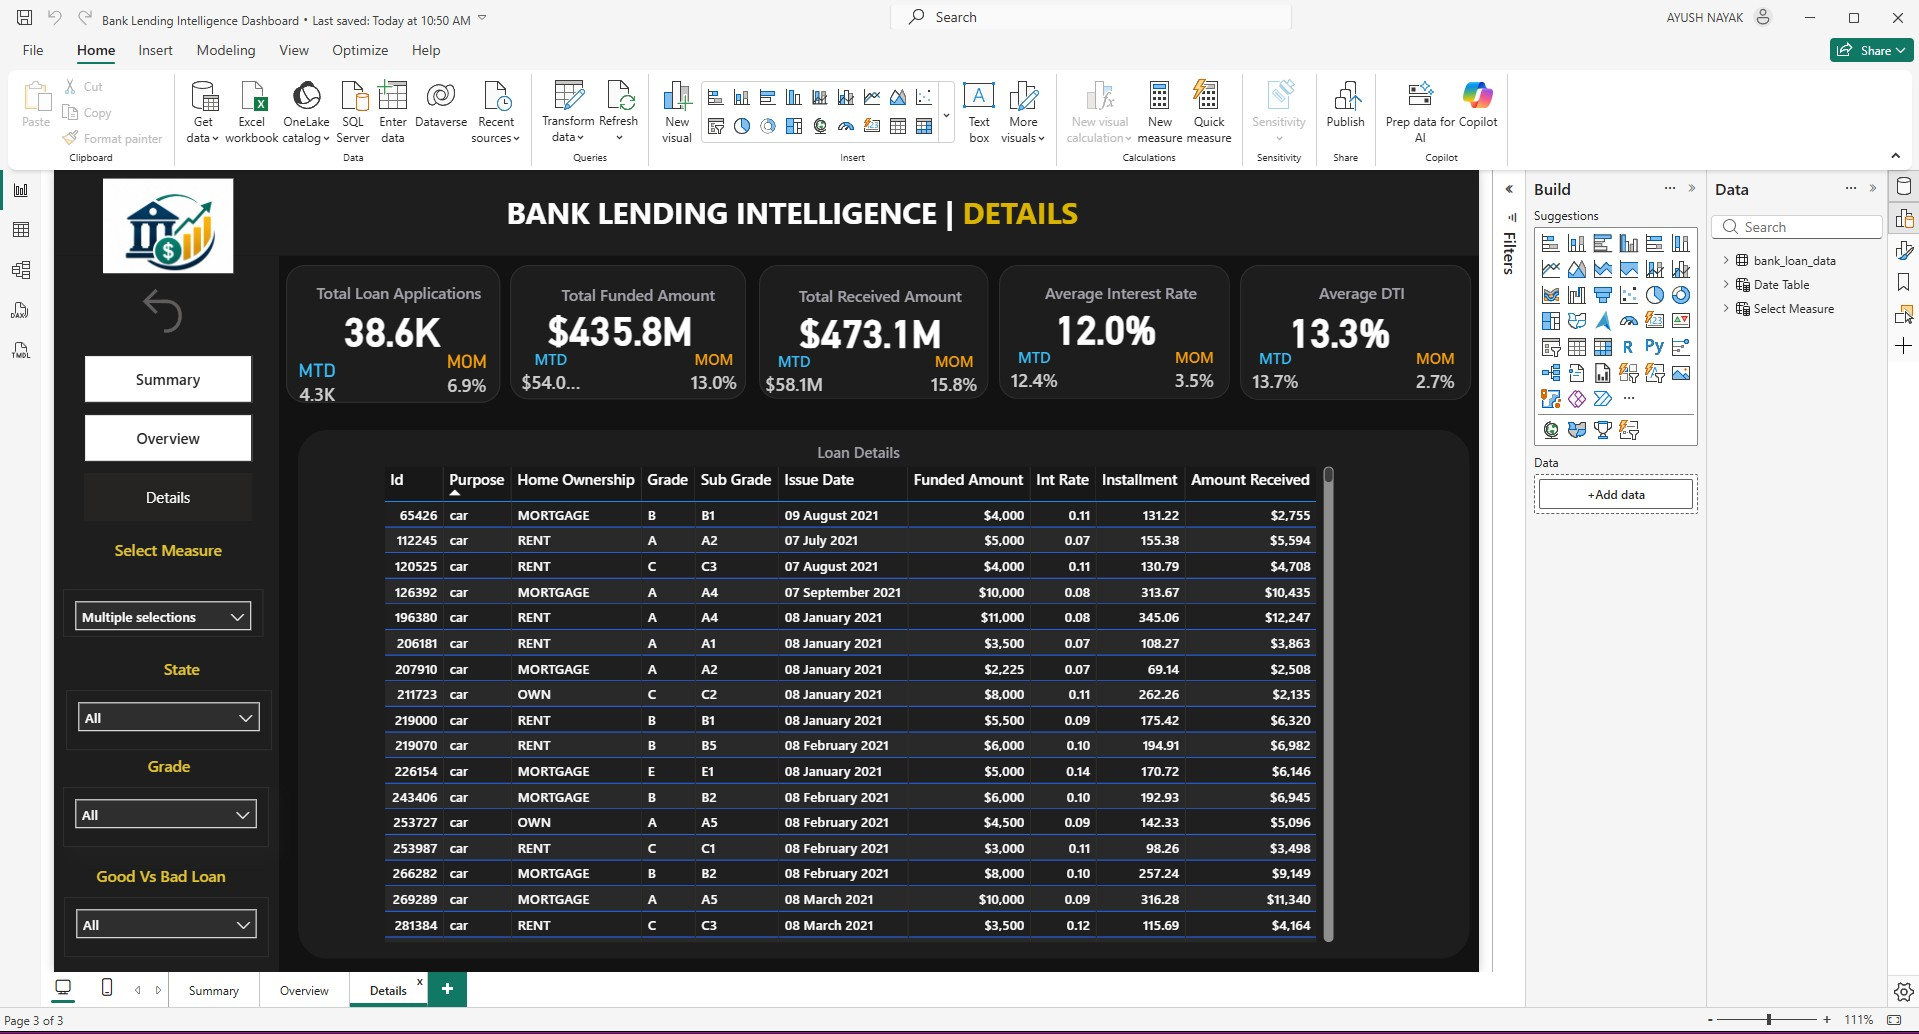

What the dashboard file says about the page in this screenshot:
{"tool":"powerbi","page":{"name":"Details","canvas":[1280,720],"ordinal":2},"visuals":[{"type":"shape","box":[0,0,1280,77.2],"z":0},{"type":"shape","box":[208.2,85.7,192.5,123.7],"z":0,"group":"g1"},{"type":"shape","box":[1064.3,85.7,207.6,121.3],"z":0,"group":"g6"},{"type":"group","id":"g1","title":"Group 1","box":[206.6,85.7,193.5,133],"z":1000},{"type":"shape","box":[632.9,85.7,206.2,120.3],"z":1000,"group":"g2"},{"type":"card","fields":{"Values":["bank_loan_data.Total Loan Applications"]},"box":[217.7,119.8,172.3,46.4],"z":1000,"group":"g1"},{"type":"shape","box":[0,77.6,202.2,642.9],"z":2000},{"type":"shape","box":[409.2,85.7,212.1,120.8],"z":2000,"group":"g5"},{"type":"textbox","box":[227.2,96.6,164.8,47.8],"z":2000,"group":"g1"},{"type":"group","id":"g2","title":"Group 2","box":[632.9,85.7,206.6,123],"z":3000},{"type":"card","title":"MTD","fields":{"Values":["bank_loan_data.MTD Loan Applications"]},"box":[206.6,170.2,59.5,48.4],"z":3000,"group":"g1"},{"type":"shape","box":[848.6,85.7,207.4,120.3],"z":4000,"group":"g3"},{"type":"card","title":"MOM","fields":{"Values":["bank_loan_data.MOM Loan Applications"]},"box":[341.7,161.7,59,47.8],"z":4000,"group":"g1"},{"type":"shape","box":[219.3,233.7,1051.8,474.7],"z":4000},{"type":"group","id":"g3","title":"Group 3","box":[848.6,85.7,206.6,119.9],"z":5000},{"type":"textbox","box":[401.1,14.1,627.9,48.4],"z":6000},{"type":"card","fields":{"Values":["bank_loan_data.Avg DTI"]},"box":[1069.8,120.5,167.9,46.4],"z":6000,"group":"g6"},{"type":"group","id":"g4","title":"Group 4","box":[1064.3,85.7,207.6,120.9],"z":7000},{"type":"card","fields":{"Values":["bank_loan_data.Total Amount Received"]},"box":[645,123.5,176.9,42.2],"z":7000,"group":"g2"},{"type":"group","id":"g5","title":"Group 6","box":[409.2,85.7,214.7,120.9],"z":8000},{"type":"card","fields":{"Values":["bank_loan_data.Total Funded Amount"]},"box":[423.9,119.9,168.8,44.9],"z":8000,"group":"g5"},{"type":"card","fields":{"Values":["bank_loan_data.Average Interest Rate"]},"box":[859.4,119,169.5,45.1],"z":9000,"group":"g3"},{"type":"textbox","box":[768.8,268.8,148.8,27.5],"z":9000},{"type":"slicer","fields":{"Values":["bank_loan_data.address_state"]},"box":[10.6,466.6,184.5,54.1],"z":10000},{"type":"textbox","box":[1084.9,96.3,177.7,46.8],"z":11000,"group":"g6"},{"type":"textbox","box":[22.3,433.7,184.5,32.9],"z":11000},{"type":"textbox","box":[653.6,99.2,176.4,46.6],"z":12000,"group":"g2"},{"type":"slicer","fields":{"Values":["bank_loan_data.grade"]},"box":[8.2,553.6,184.5,54.1],"z":12000},{"type":"textbox","box":[434.7,97.9,180,46.1],"z":13000,"group":"g5"},{"type":"textbox","box":[17.6,520.7,170.4,32.9],"z":13000},{"type":"textbox","box":[869.2,96.3,177.5,46.4],"z":14000,"group":"g3"},{"type":"textbox","box":[17.6,619.4,156.3,32.9],"z":14000},{"type":"slicer","fields":{"Values":["bank_loan_data.Good Vs Bad Loan"]},"box":[8.6,652.9,184.3,54.3],"z":15000},{"type":"card","title":"MTD","fields":{"Values":["bank_loan_data.MTD Avg DTI"]},"box":[1064.3,160.2,63.6,46.8],"z":16000,"group":"g6"},{"type":"slicer","fields":{"Values":["Select Measure.Select Measure"]},"box":[8.2,376.1,179.8,43.5],"z":16000},{"type":"card","title":"MTD","fields":{"Values":["bank_loan_data.MTD Total Amount Received"]},"box":[633.2,162.8,63.1,46.6],"z":17000,"group":"g2"},{"type":"textbox","box":[10.1,326.6,185.4,33.3],"z":17000},{"type":"card","title":"MTD","fields":{"Values":["bank_loan_data.MTD Funded Amount"]},"box":[413.9,160.8,64.4,46.1],"z":18000,"group":"g5"},{"type":"tableEx","title":"Loan Details","fields":{"Values":["bank_loan_data.id","bank_loan_data.purpose","bank_loan_data.home_ownership","bank_loan_data.grade","bank_loan_data.sub_grade","bank_loan_data.issue_date","bank_loan_data.Total Funded Amount","Sum(bank_loan_data.int_rate)","Sum(bank_loan_data.installment)","bank_loan_data.Total Amount Received"]},"box":[291.3,243.9,862.7,453.5],"z":18000},{"type":"card","title":"MTD","fields":{"Values":["bank_loan_data.MTD Avg Int Rate"]},"box":[848.6,159.6,63.5,46.4],"z":19000,"group":"g3"},{"type":"pageNavigator","box":[27.2,166.3,151.2,151.2],"z":19000},{"type":"actionButton","box":[71.6,100.8,62.5,51.4],"z":20000},{"type":"card","title":"MOM","fields":{"Values":["bank_loan_data.MOM Avg DTI"]},"box":[1208.3,160.2,63.6,46.8],"z":20000,"group":"g6"},{"type":"image","box":[44.3,3,116.9,95.7],"z":21000},{"type":"card","title":"MOM","fields":{"Values":["bank_loan_data.MOM Total Amount Received"]},"box":[776.1,162.8,63.1,46.6],"z":22000,"group":"g2"},{"type":"card","title":"MOM","fields":{"Values":["bank_loan_data.MOM Total Funded Amount"]},"box":[559.8,160.8,64.4,46.1],"z":23000,"group":"g5"},{"type":"card","title":"MOM","fields":{"Values":["bank_loan_data.MOM Avg Int Rate"]},"box":[992.5,159.6,63.5,46.4],"z":24000,"group":"g3"},{"type":"group","id":"g6","title":"Group 5","box":[1064.3,85.7,207.6,121.3],"z":43004,"group":"g4"}]}

Visuals, with their boxes on the page's 1280x720 design canvas (x1, y1, x2, y2). These are canvas units, not pixel positions in the 1919x1034 screenshot, which may show the page scaled, cropped or inside an application window:
shape: [x1=0, y1=0, x2=1280, y2=77]
shape: [x1=208, y1=86, x2=401, y2=209]
shape: [x1=1064, y1=86, x2=1272, y2=207]
"Group 1" group: [x1=207, y1=86, x2=400, y2=219]
shape: [x1=633, y1=86, x2=839, y2=206]
card - bank_loan_data.Total Loan Applications: [x1=218, y1=120, x2=390, y2=166]
shape: [x1=0, y1=78, x2=202, y2=720]
shape: [x1=409, y1=86, x2=621, y2=206]
textbox: [x1=227, y1=97, x2=392, y2=144]
"Group 2" group: [x1=633, y1=86, x2=840, y2=209]
"MTD" card: [x1=207, y1=170, x2=266, y2=219]
shape: [x1=849, y1=86, x2=1056, y2=206]
"MOM" card: [x1=342, y1=162, x2=401, y2=210]
shape: [x1=219, y1=234, x2=1271, y2=708]
"Group 3" group: [x1=849, y1=86, x2=1055, y2=206]
textbox: [x1=401, y1=14, x2=1029, y2=62]
card - bank_loan_data.Avg DTI: [x1=1070, y1=120, x2=1238, y2=167]
"Group 4" group: [x1=1064, y1=86, x2=1272, y2=207]
card - bank_loan_data.Total Amount Received: [x1=645, y1=124, x2=822, y2=166]
"Group 6" group: [x1=409, y1=86, x2=624, y2=207]
card - bank_loan_data.Total Funded Amount: [x1=424, y1=120, x2=593, y2=165]
card - bank_loan_data.Average Interest Rate: [x1=859, y1=119, x2=1029, y2=164]
textbox: [x1=769, y1=269, x2=918, y2=296]
slicer - bank_loan_data.address_state: [x1=11, y1=467, x2=195, y2=521]
textbox: [x1=1085, y1=96, x2=1263, y2=143]
textbox: [x1=22, y1=434, x2=207, y2=467]
textbox: [x1=654, y1=99, x2=830, y2=146]
slicer - bank_loan_data.grade: [x1=8, y1=554, x2=193, y2=608]
textbox: [x1=435, y1=98, x2=615, y2=144]
textbox: [x1=18, y1=521, x2=188, y2=554]
textbox: [x1=869, y1=96, x2=1047, y2=143]
textbox: [x1=18, y1=619, x2=174, y2=652]
slicer - bank_loan_data.Good Vs Bad Loan: [x1=9, y1=653, x2=193, y2=707]
"MTD" card: [x1=1064, y1=160, x2=1128, y2=207]
slicer - Select Measure.Select Measure: [x1=8, y1=376, x2=188, y2=420]
"MTD" card: [x1=633, y1=163, x2=696, y2=209]
textbox: [x1=10, y1=327, x2=196, y2=360]
"MTD" card: [x1=414, y1=161, x2=478, y2=207]
"Loan Details" tableEx: [x1=291, y1=244, x2=1154, y2=697]
"MTD" card: [x1=849, y1=160, x2=912, y2=206]
pageNavigator: [x1=27, y1=166, x2=178, y2=318]
actionButton: [x1=72, y1=101, x2=134, y2=152]
"MOM" card: [x1=1208, y1=160, x2=1272, y2=207]
image: [x1=44, y1=3, x2=161, y2=99]
"MOM" card: [x1=776, y1=163, x2=839, y2=209]
"MOM" card: [x1=560, y1=161, x2=624, y2=207]
"MOM" card: [x1=992, y1=160, x2=1056, y2=206]
"Group 5" group: [x1=1064, y1=86, x2=1272, y2=207]
